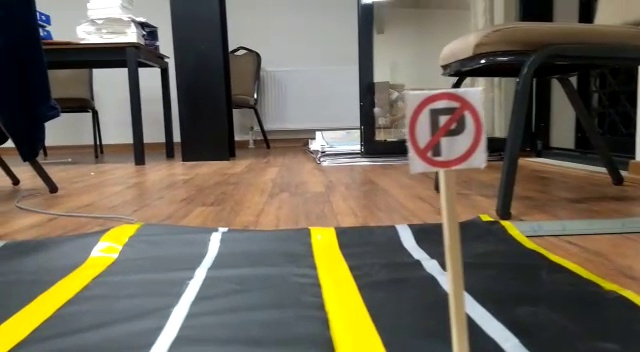park_yapilmaz: (408, 91, 487, 169)
